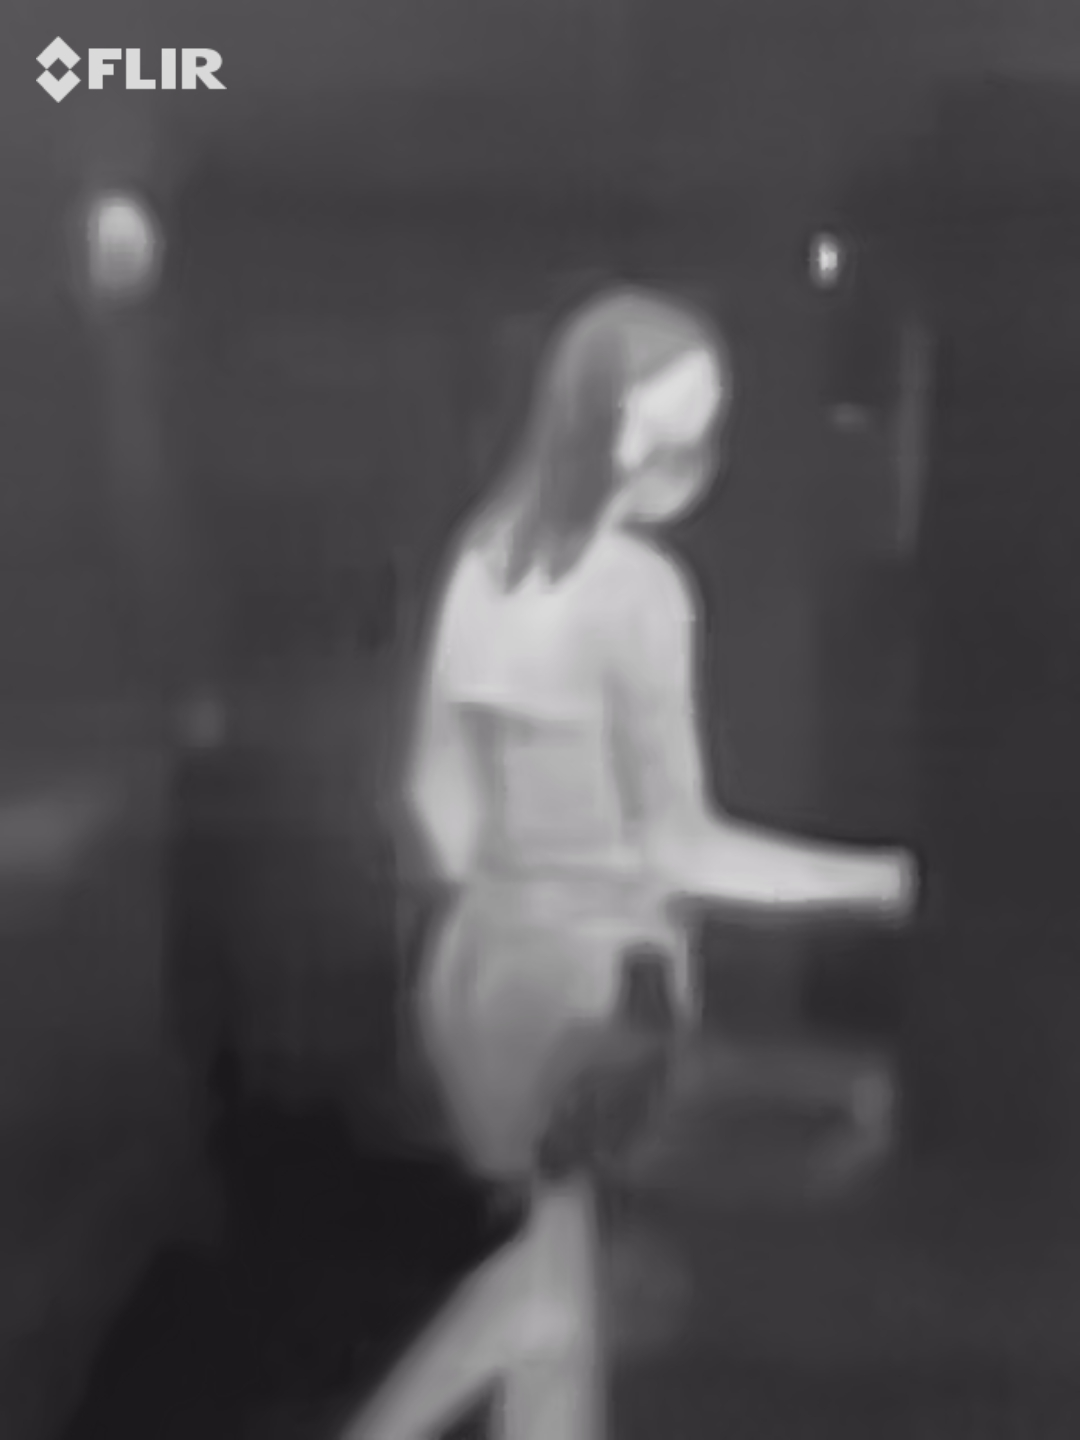head: (529, 281, 742, 530)
